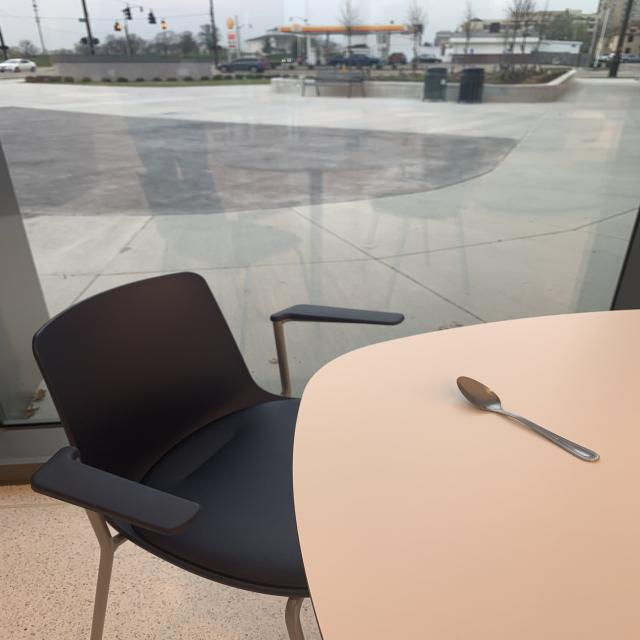Spoon: (445, 374, 618, 470)
